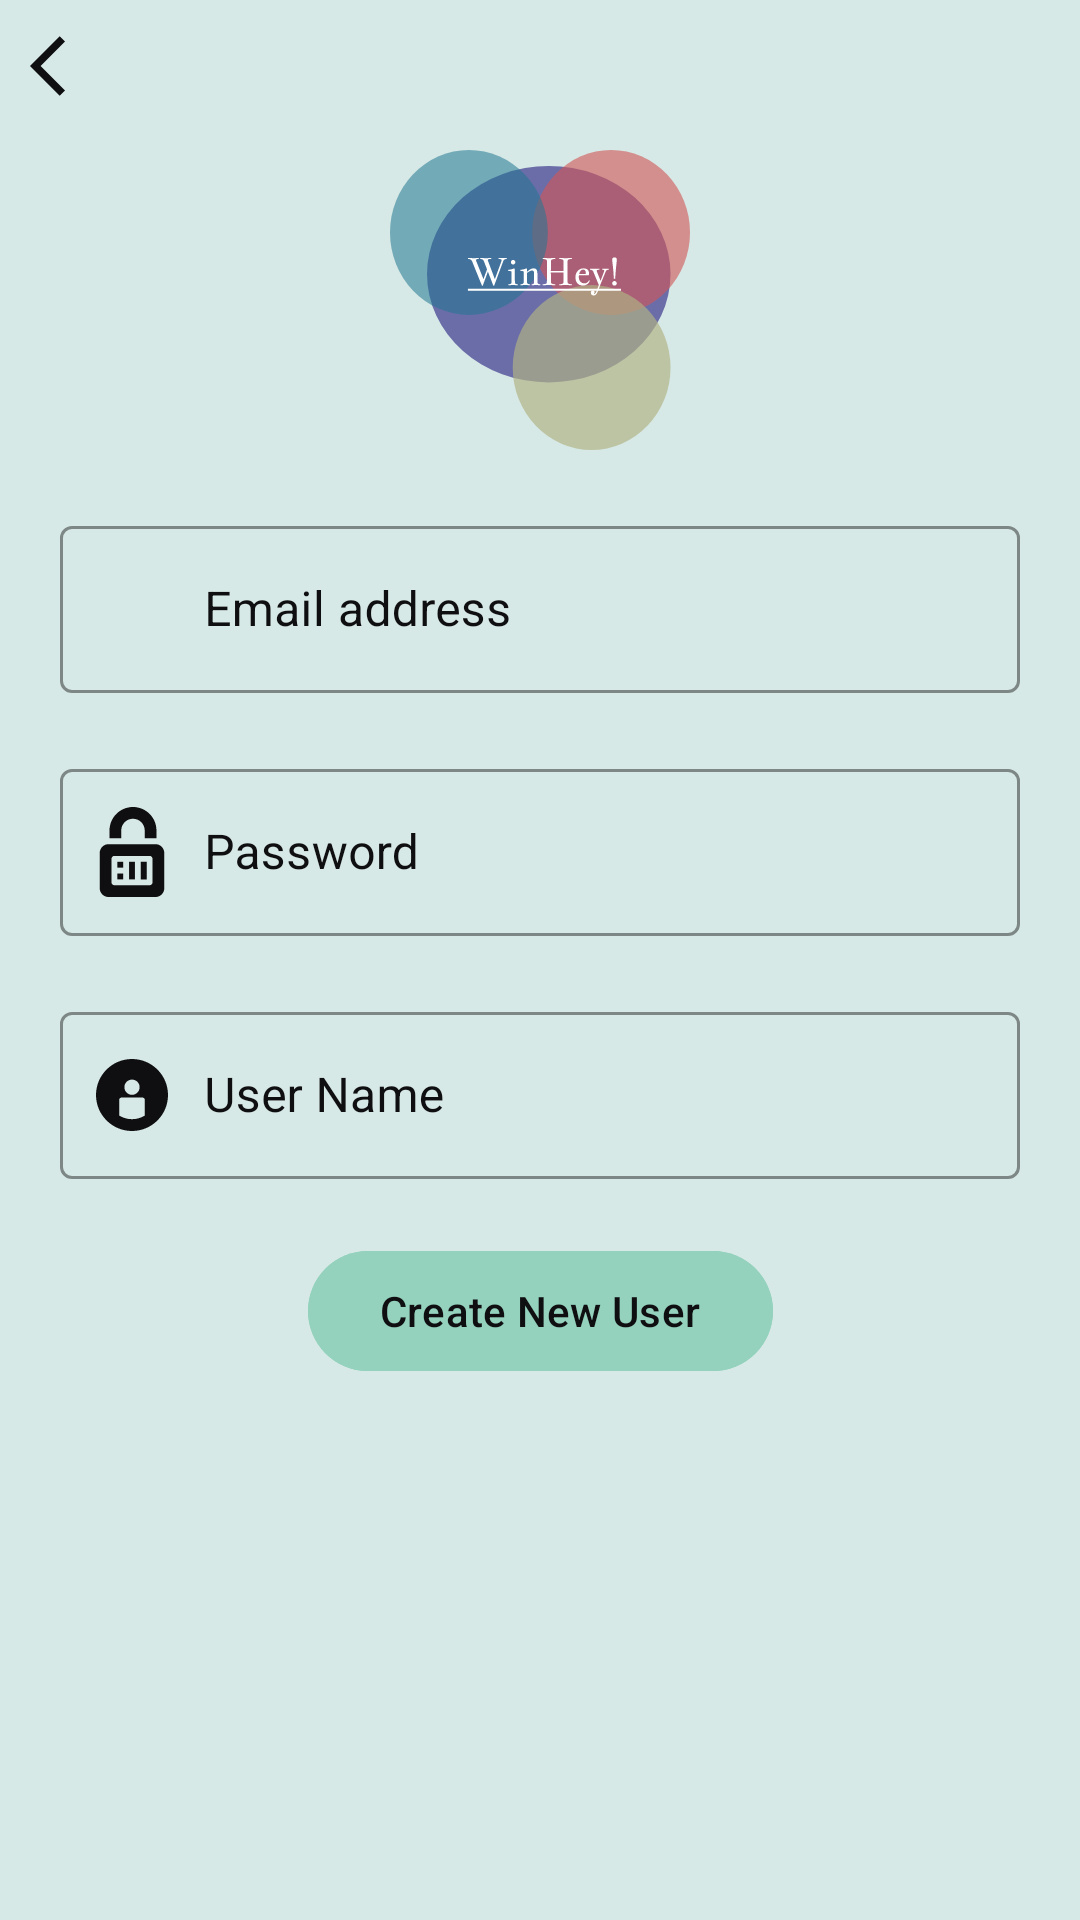

Icons on this 1080 × 1920 Android screen, each with the point to tap as point (x, y):
Back Button: point (47, 66)
